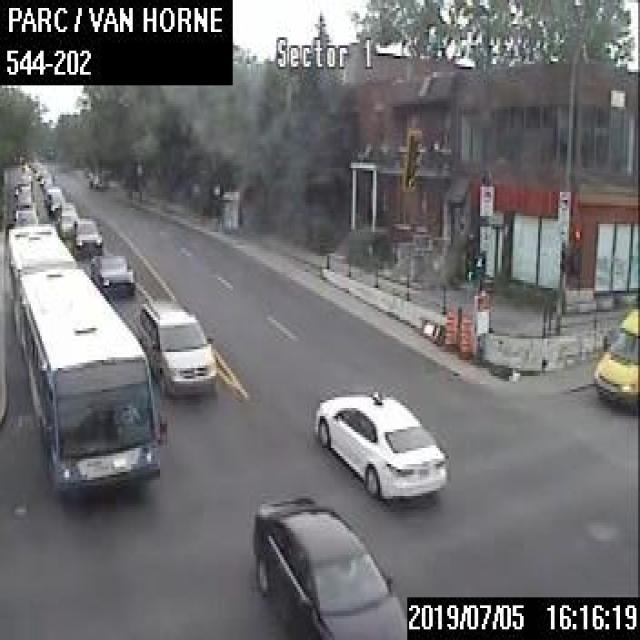bus: (4, 220, 166, 490)
construction: (459, 310, 473, 358), (443, 305, 455, 348)
vehicle: (250, 493, 404, 638), (313, 386, 446, 498), (138, 295, 216, 392), (593, 304, 638, 408), (88, 250, 135, 294), (72, 217, 103, 253), (56, 198, 76, 231), (44, 185, 64, 212), (14, 198, 35, 220), (88, 170, 107, 188), (13, 175, 31, 192), (38, 169, 54, 185), (15, 187, 31, 201)
